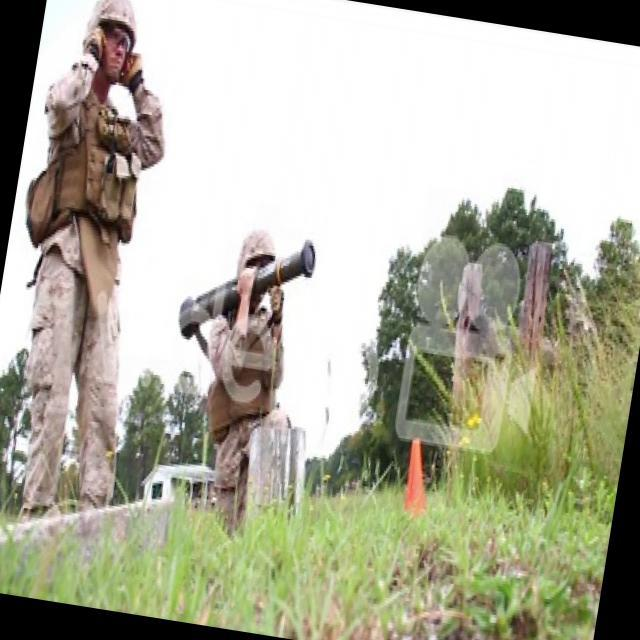rocket: (173, 216, 321, 368)
